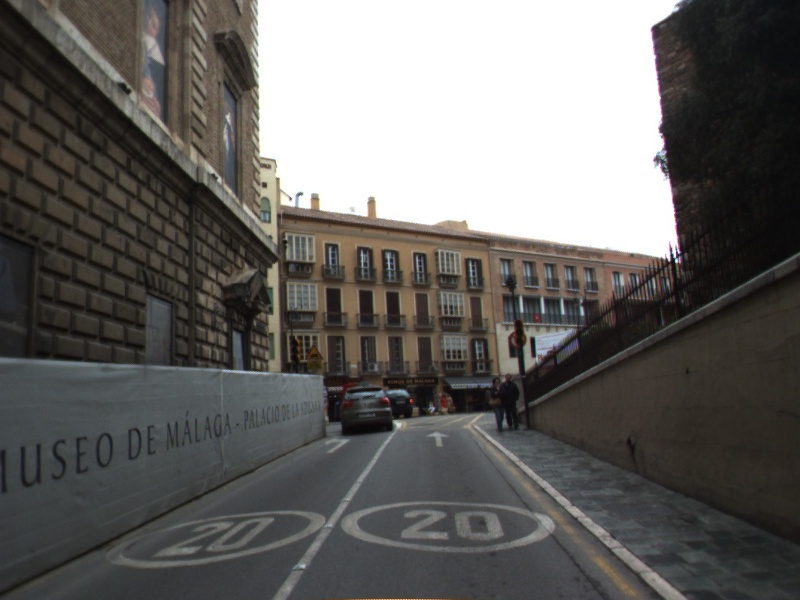LEFT: (323, 435, 353, 455)
STRAIGHT: (423, 429, 453, 448)
